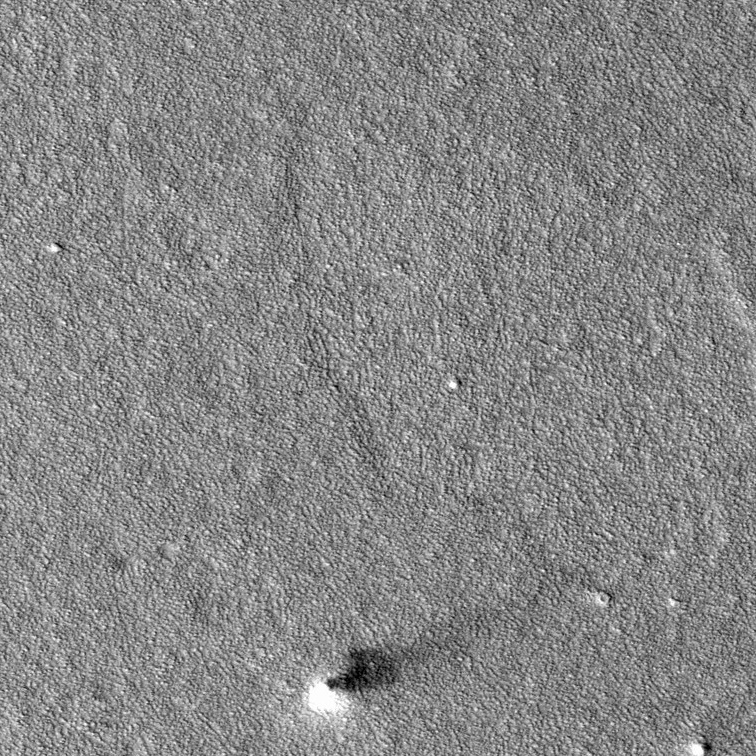dust_devil: (304, 641, 410, 722)
